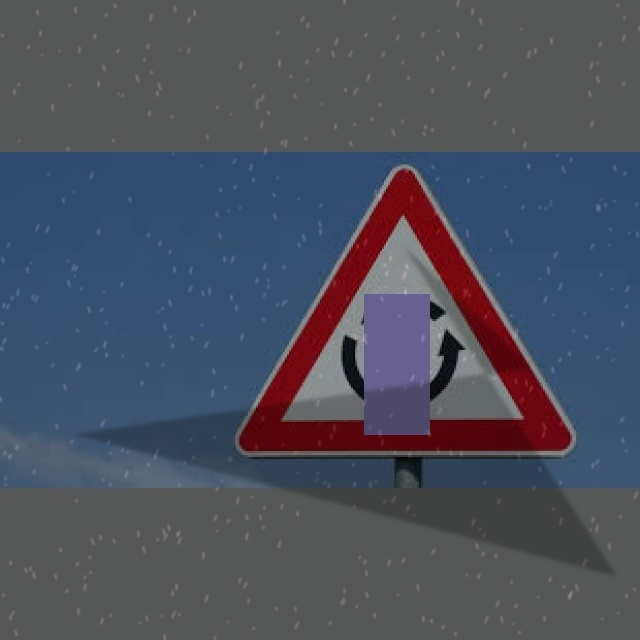Round_About: (241, 160, 563, 455)
